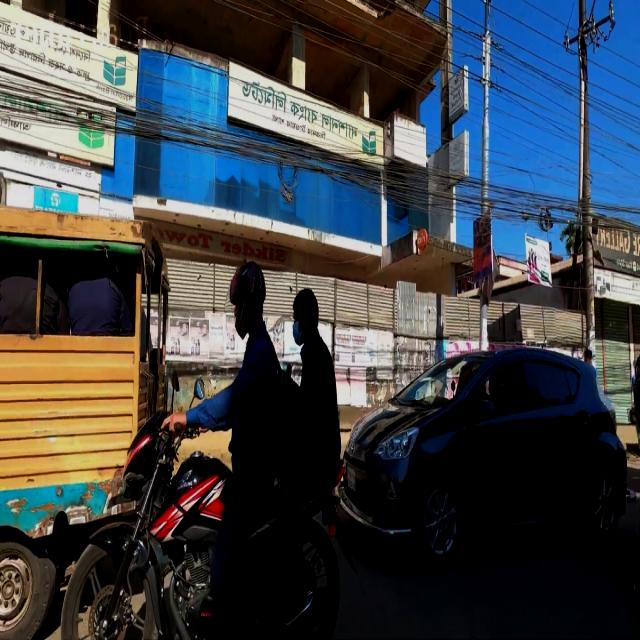black: (341, 348, 631, 568)
